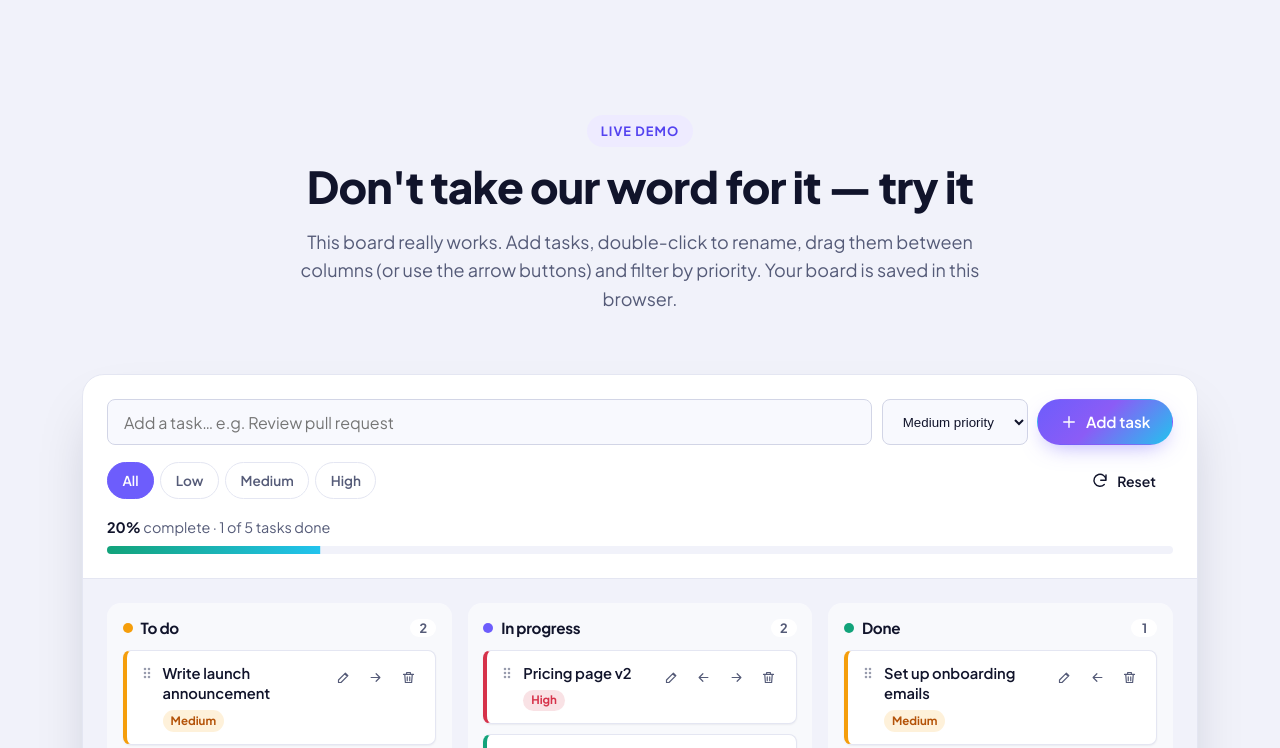
Scenario: BoardDemo › renames a task inline with the keyboard (Enter saves, Escape cancels)
Click the button named "Edit \"Pricing page v2\"": (672, 678) [657,663,687,693]
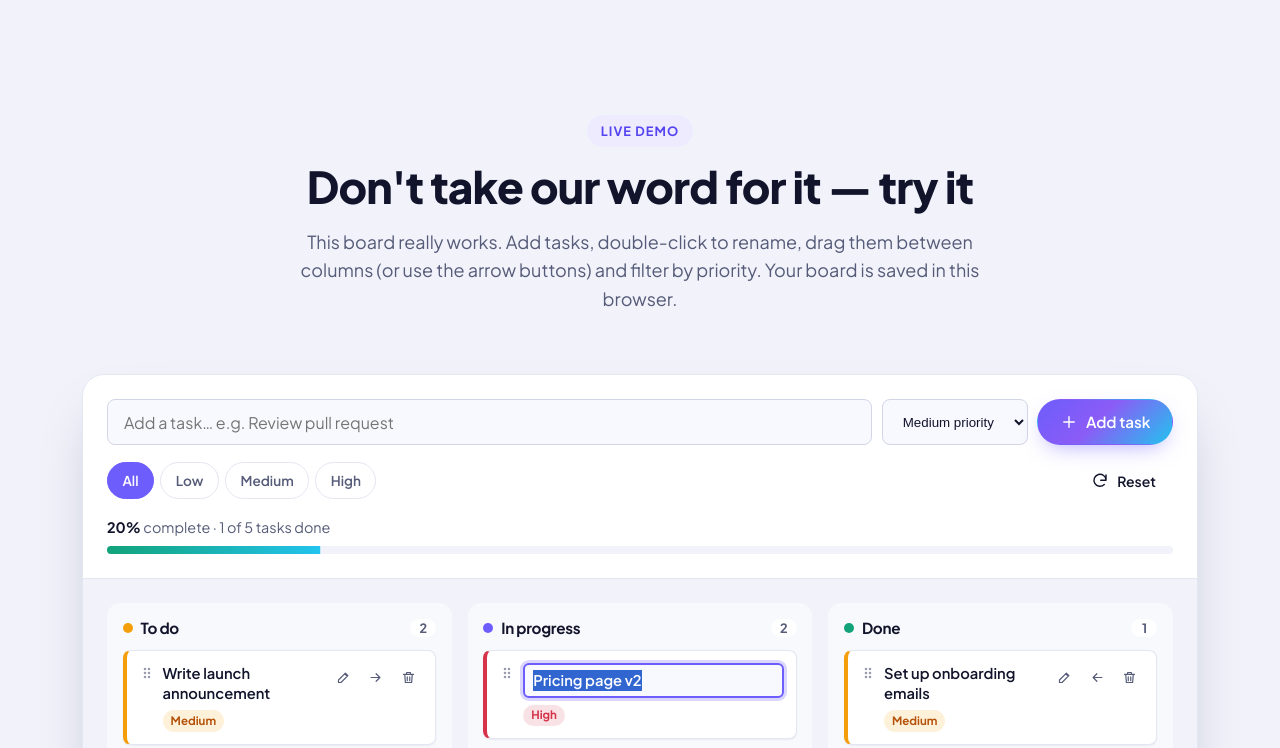
Replace the text in the field named "Edit name of \"Pricing page v2\"" with "Pricing page v3": (654, 681) [523,663,784,699]
Then press Enter
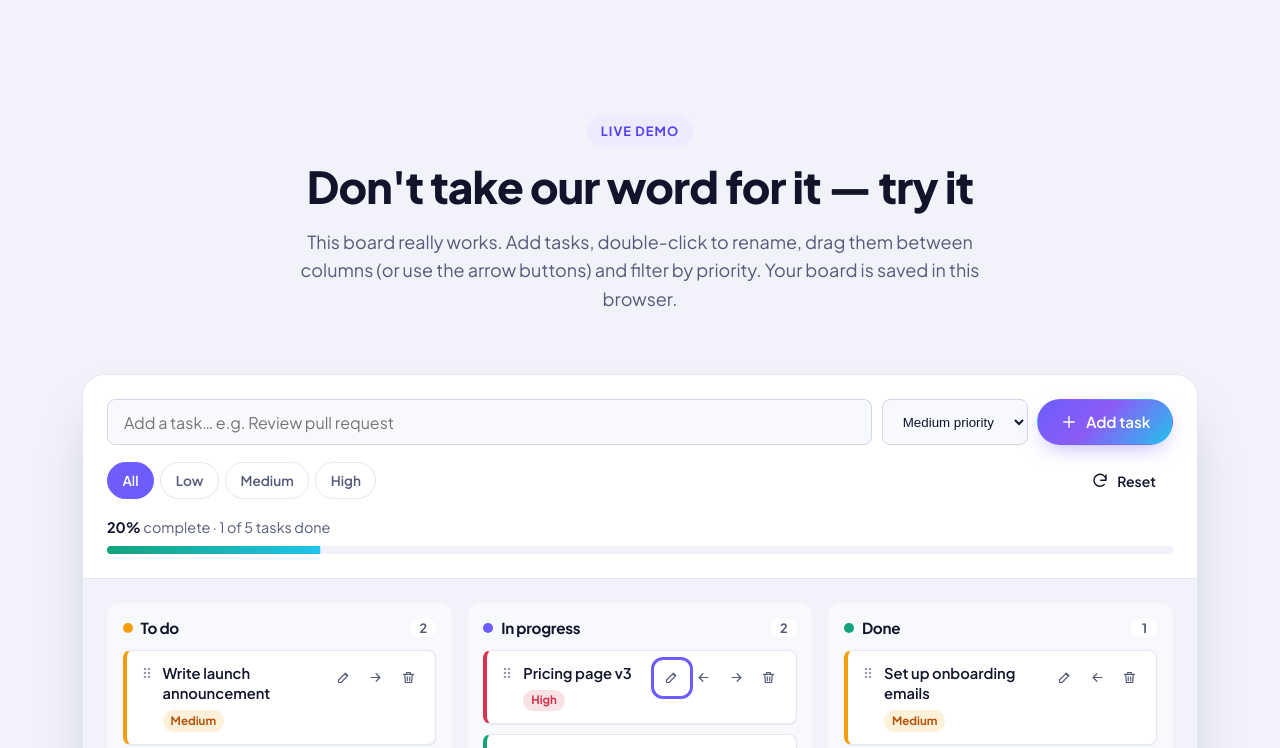
Expected: the text "Pricing page v3" is shown, [523,663,649,684]
Click the button named "Edit \"Pricing page v3\"": (672, 678) [657,663,687,693]
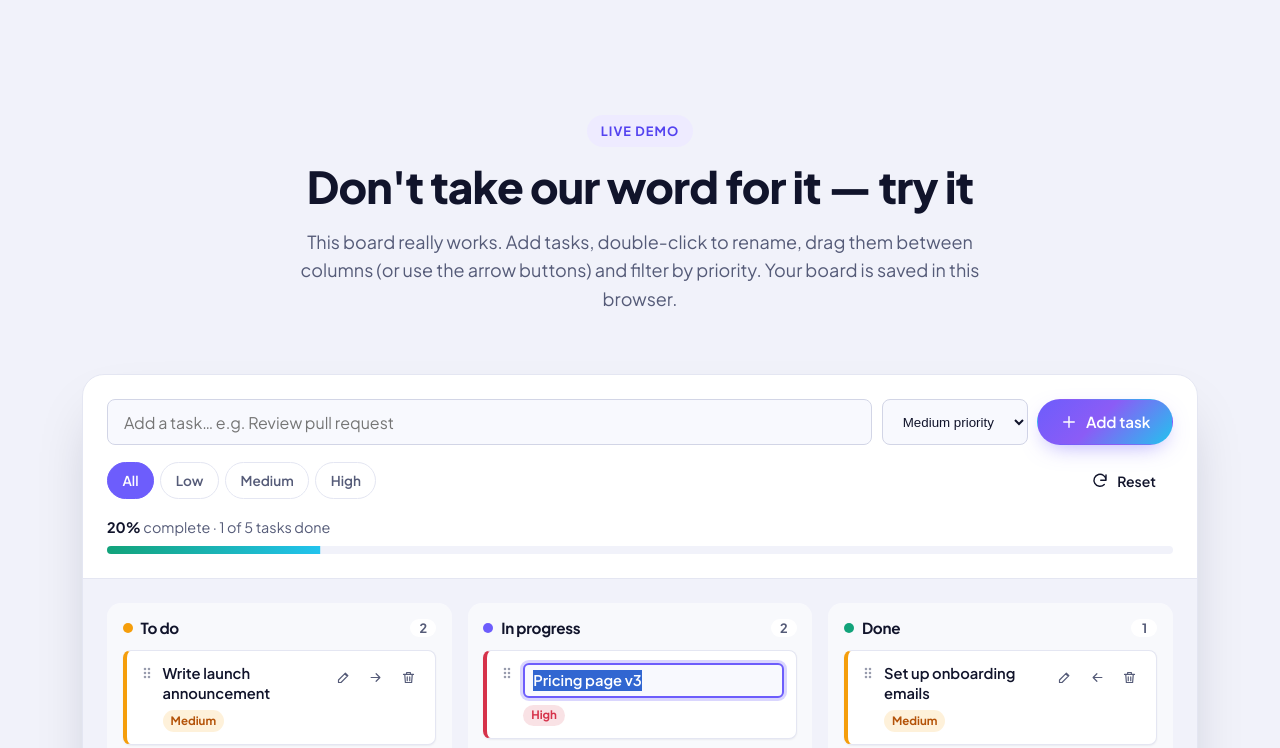
In the field named "edit name": (654, 681) [523,663,784,699], type " draft"
Then press Escape
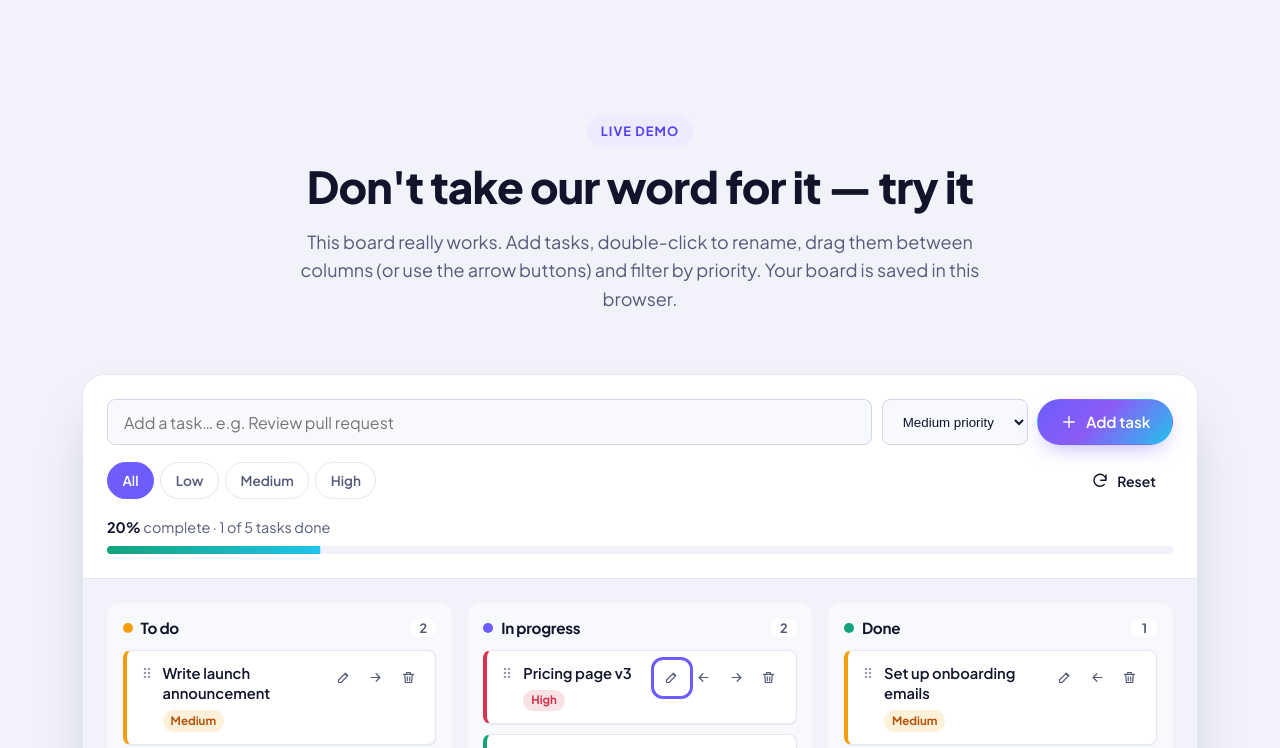
Expected: the text "Pricing page v3" is shown, [523,663,649,684]
